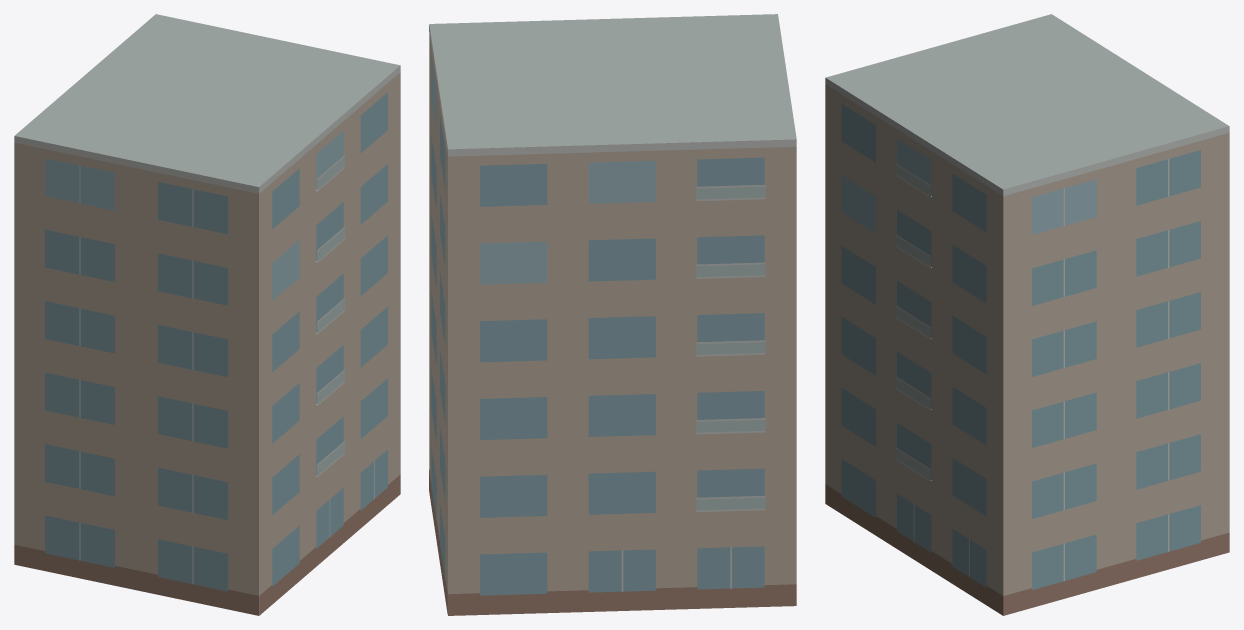
Rendered from survey-upis-32719388.glb.
3 renders of one model, left to right at view 1: azimuth 30°, elevation 25°; view 2: azimuth 150°, elevation 25°; view 3: azimuth 270°, elevation 25°, orthographic. The views are drawn at different scales.
Parts seen in each view (by area): view 1: survey-upis-32719388.tmp; view 2: survey-upis-32719388.tmp; view 3: survey-upis-32719388.tmp.
Boxes of the visible parts, x1,y1,x2,y2 form: survey-upis-32719388.tmp: [14, 14, 400, 615]; survey-upis-32719388.tmp: [429, 14, 796, 615]; survey-upis-32719388.tmp: [825, 14, 1229, 615].
Size of the model in its own units: 13.88 by 15.69 by 13.49.
